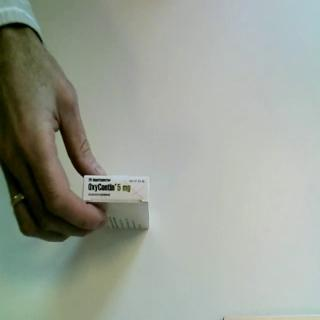oxycontin5mg: (82, 174, 152, 232)
